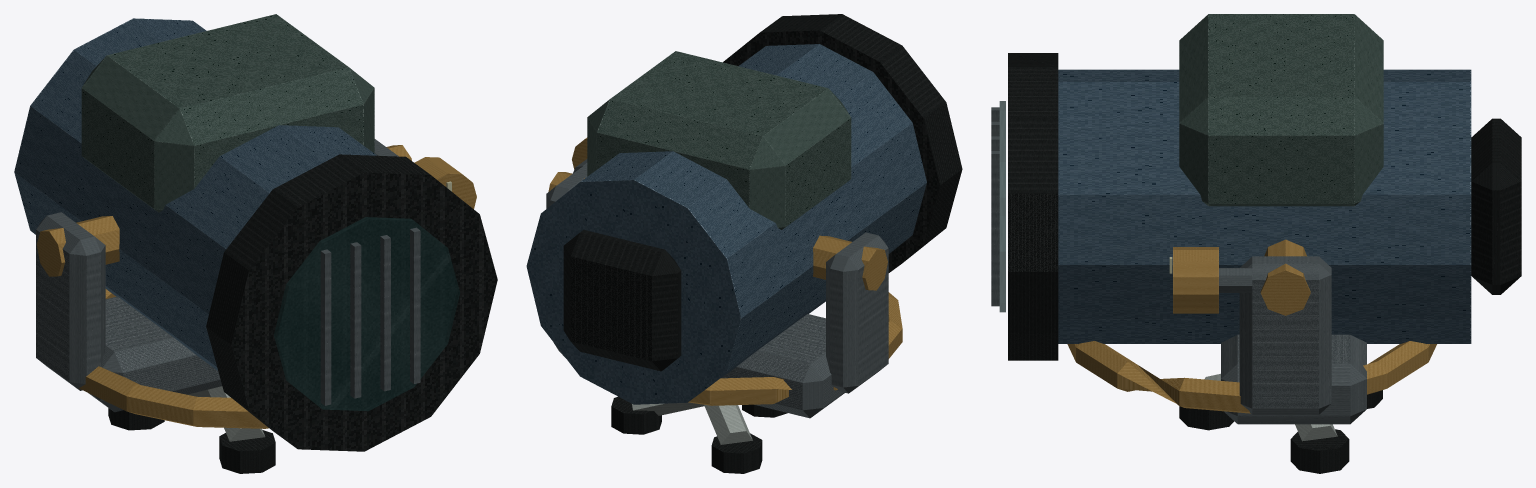
The model's file is blender_laser_grid_2.glb.
3 views of the same model, side by side, from view 1: azimuth 30°, elevation 25°; view 2: azimuth 150°, elevation 25°; view 3: azimuth 270°, elevation 25° (orthographic). The views are drawn at different scales.
Visible parts, largest first — view 1: blender_laser_grid_2; view 2: blender_laser_grid_2; view 3: blender_laser_grid_2.
Boxes of the visible parts, x1,y1,x2,y2 form: blender_laser_grid_2: (14, 14, 497, 473); blender_laser_grid_2: (526, 14, 962, 473); blender_laser_grid_2: (991, 14, 1521, 473).
Size of the model in its own units: 0.103 by 0.098 by 0.127.
Materials: 8 (8 with a texture image).
